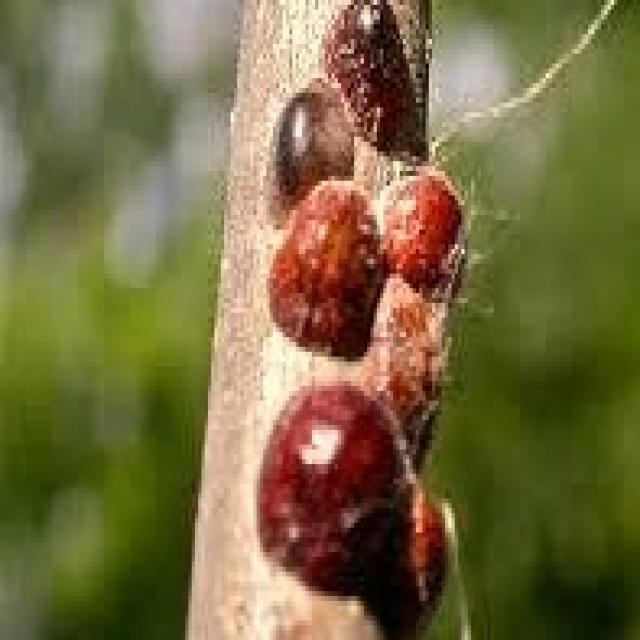Black Scale: (273, 166, 461, 465), (260, 366, 442, 635), (273, 0, 426, 217)
